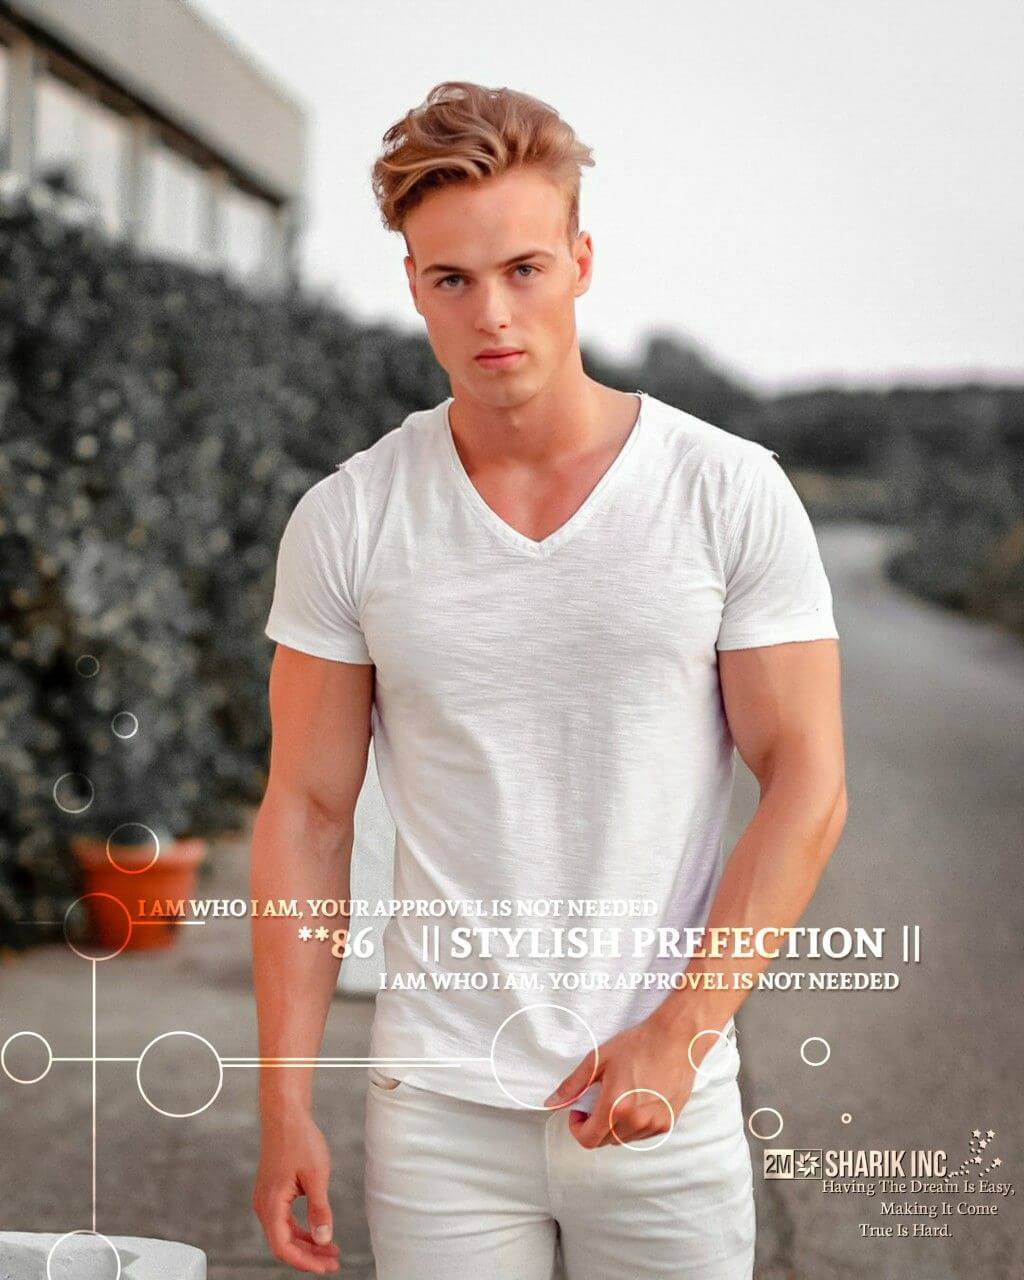noMask: (340, 92, 690, 438)
